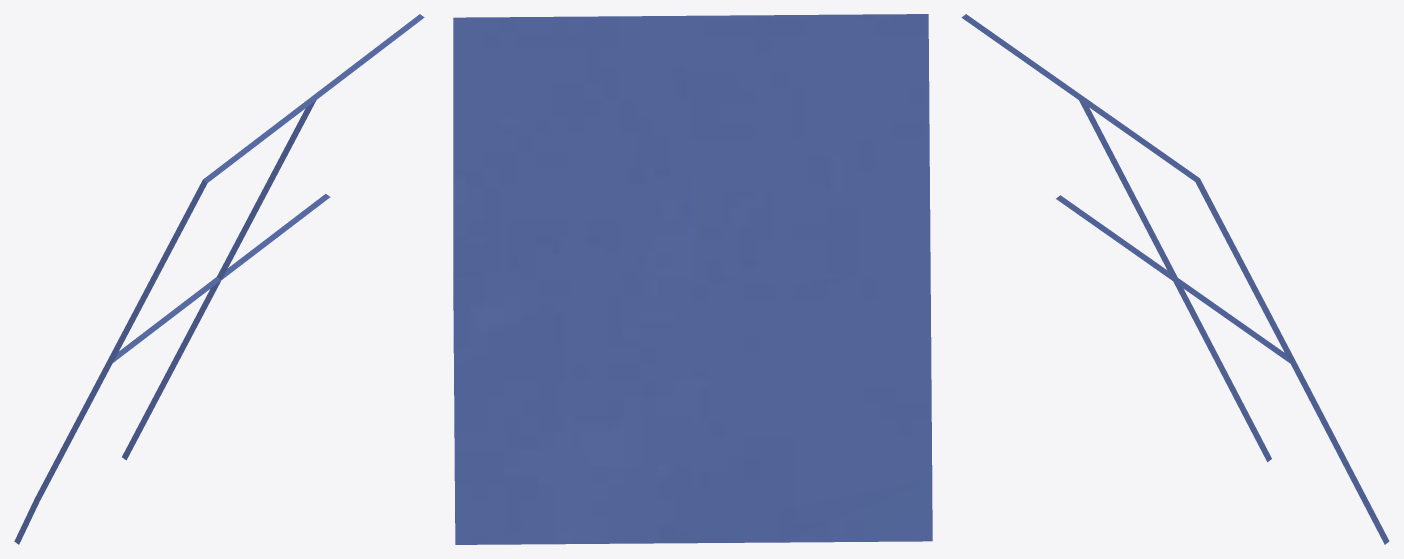
3 views of the same model, side by side, from view 1: azimuth 30°, elevation 25°; view 2: azimuth 150°, elevation 25°; view 3: azimuth 270°, elevation 25° (orthographic). The views are drawn at different scales.
Bounding box in the file's own units: 19634 × 17772 × 16678.
Materials: 1 (1 with a texture image).
